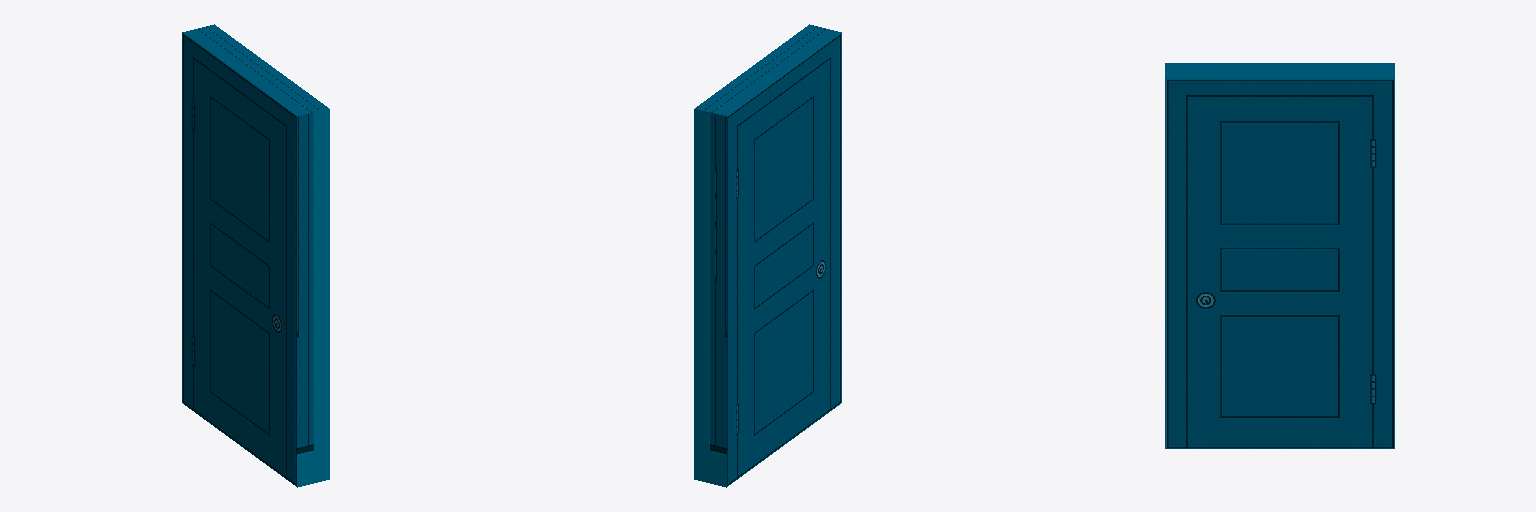
3 renders of one model, left to right at view 1: azimuth 30°, elevation 25°; view 2: azimuth 150°, elevation 25°; view 3: azimuth 270°, elevation 25°, orthographic.
Visible parts, largest first — view 1: pCube73; view 2: pCube73; view 3: pCube73.
Part boxes in pixels (x1,y1,x2,y2): pCube73: (182, 24, 329, 487); pCube73: (694, 24, 841, 487); pCube73: (1165, 63, 1394, 448).
Size of the model in its own units: 0.1017 by 1.12 by 0.6306.
Materials: 1 (1 with a texture image).